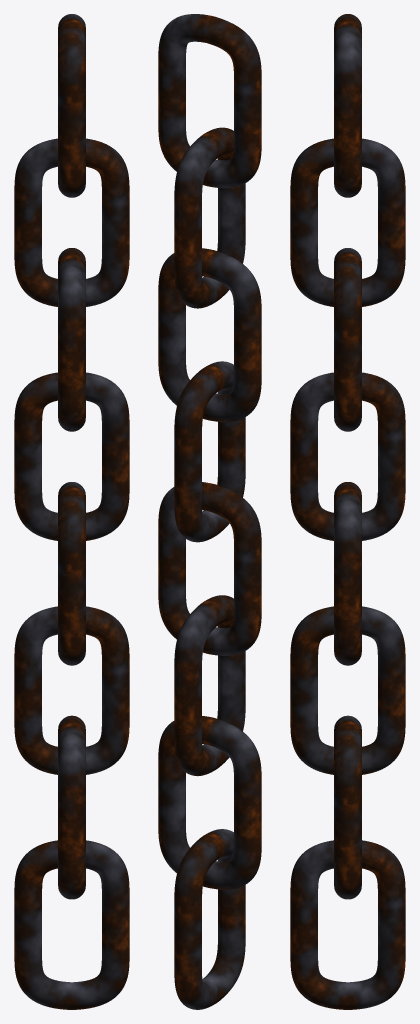
File: round_chain.glb
3 renders of one model, left to right at view 1: azimuth 90°, elevation 25°; view 2: azimuth 150°, elevation 25°; view 3: azimuth 270°, elevation 25°, orthographic.
Visible parts, largest first — view 1: NurbsPath_0; view 2: NurbsPath_0; view 3: NurbsPath_0.
Part boxes in pixels (x1,y1,x2,y2): NurbsPath_0: (14,14,129,1009); NurbsPath_0: (158,14,261,1009); NurbsPath_0: (290,14,405,1009).
Size of the model in its own units: 2.91 by 27.54 by 2.91.
Materials: 1 (1 with a texture image).
